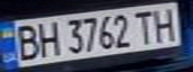2: (112, 11, 133, 48)
3: (63, 16, 84, 54)
6: (97, 12, 118, 51)
7: (81, 15, 100, 52)
B: (9, 21, 42, 62)
H: (151, 6, 181, 43), (33, 19, 60, 58)
T: (133, 8, 157, 45)
